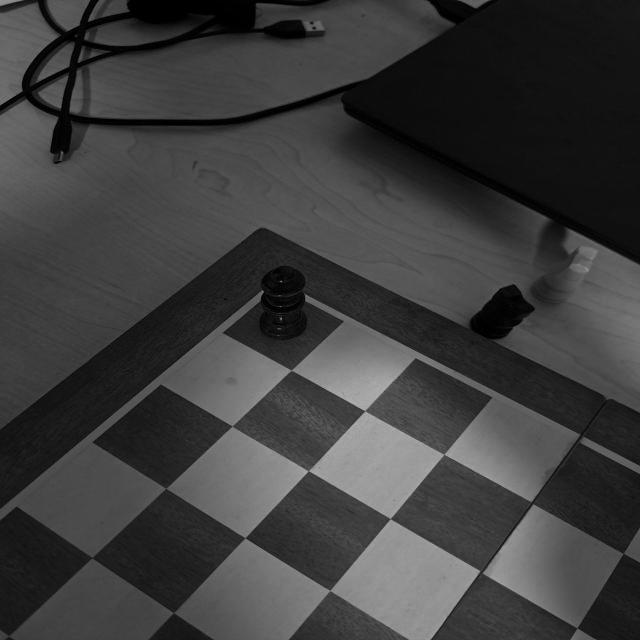chess-table-corners: (244, 274, 318, 318)
